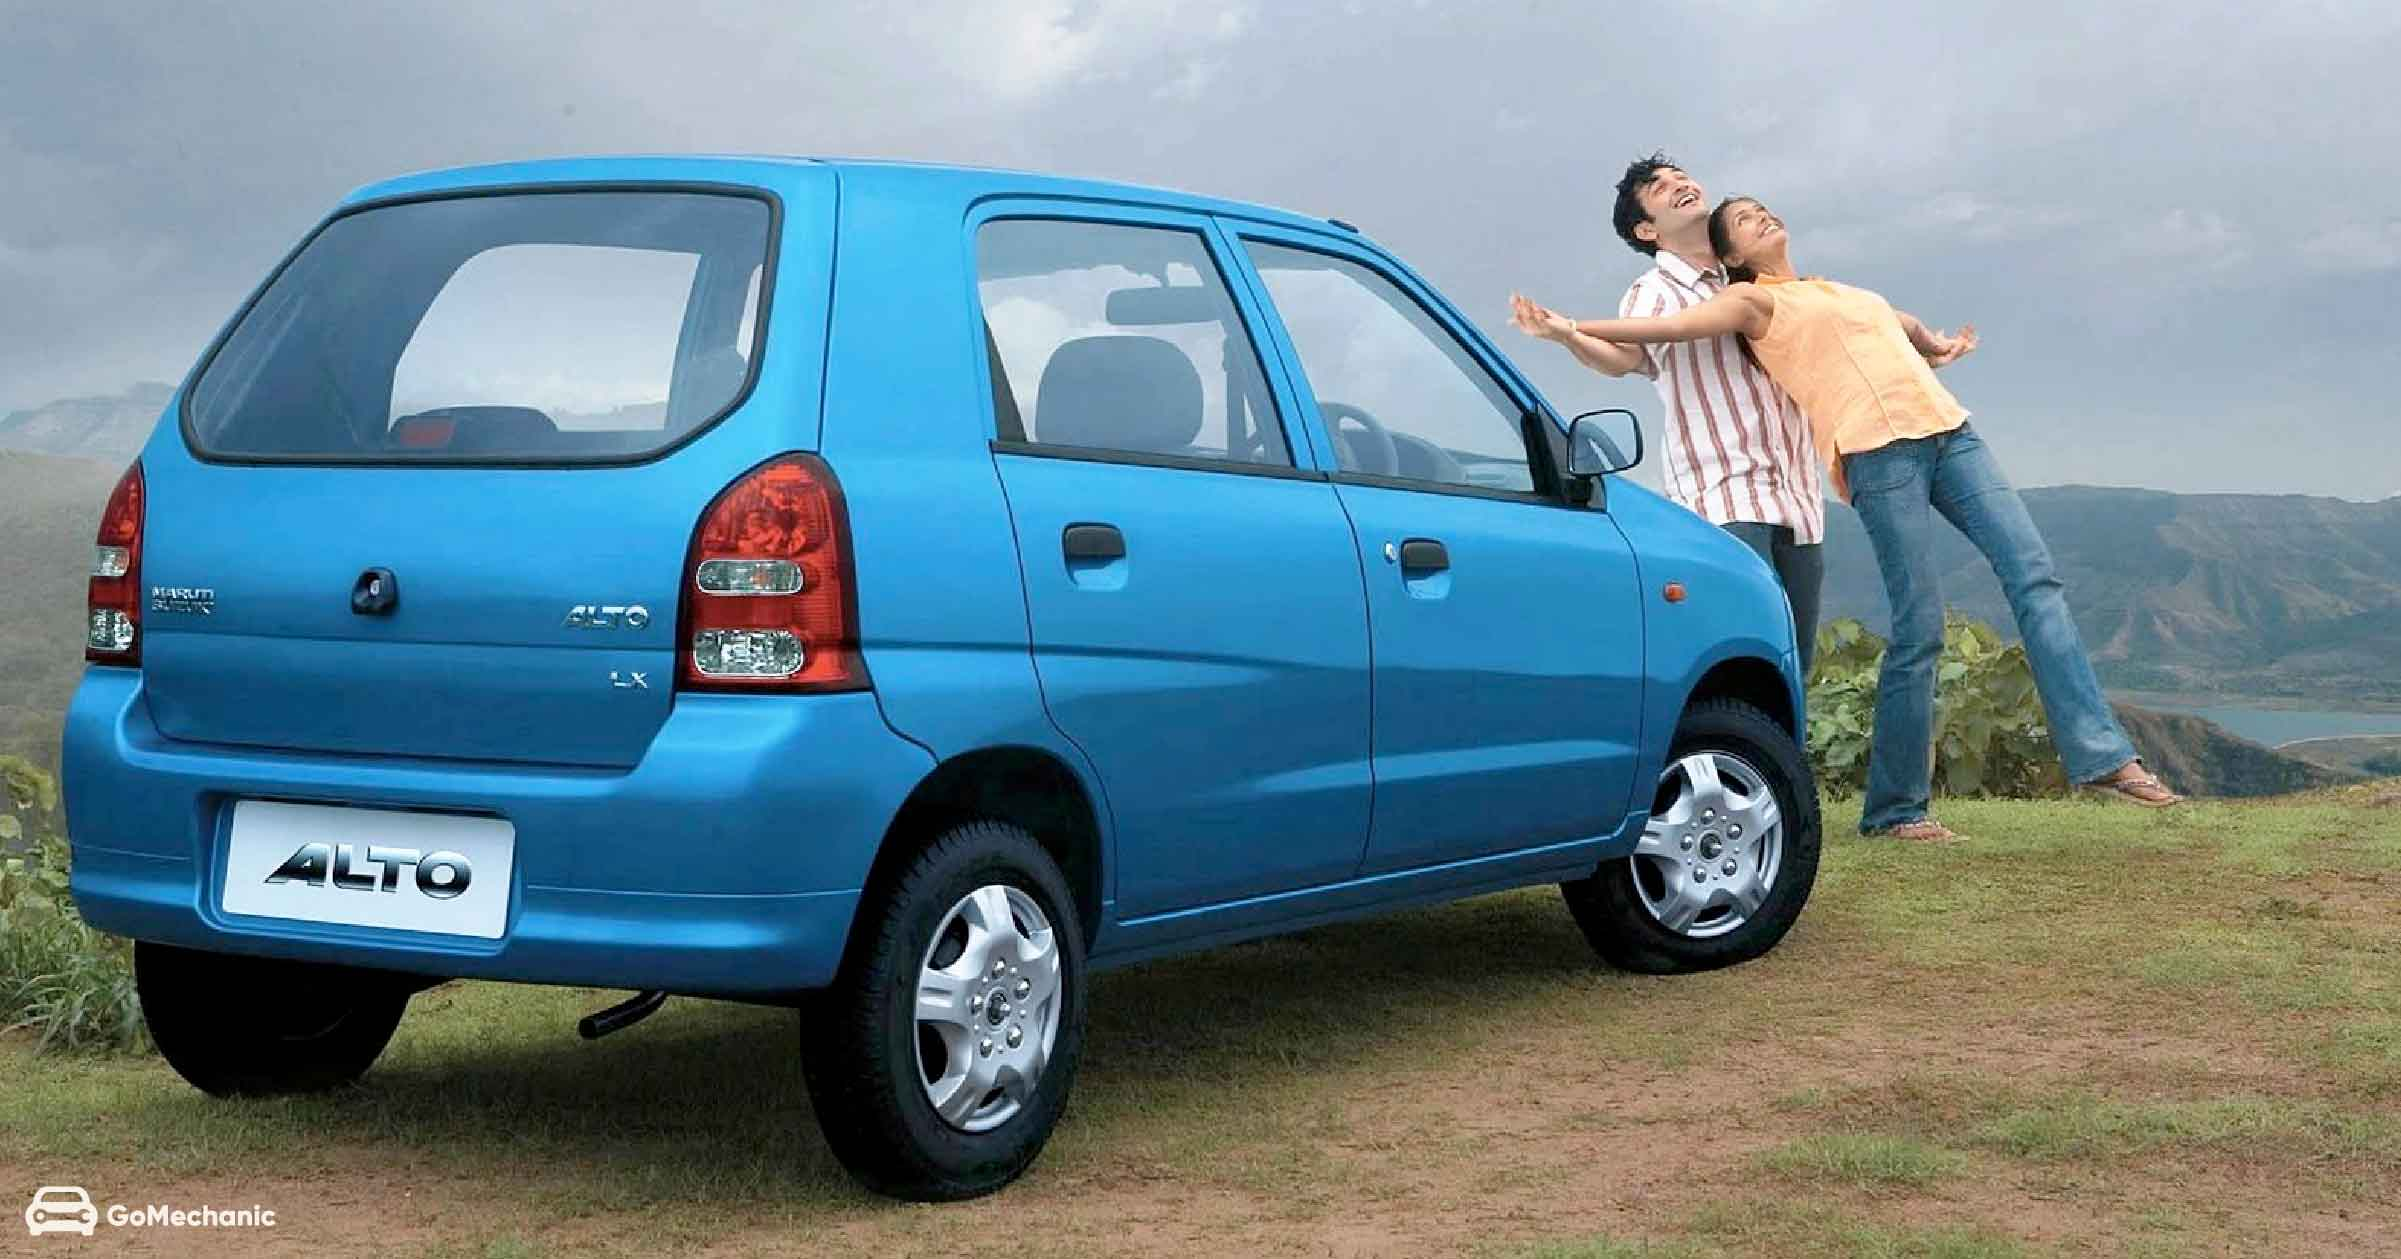car: (41, 148, 1833, 1208)
